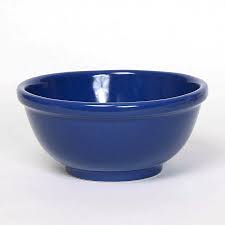bowl: (14, 67, 211, 186)
